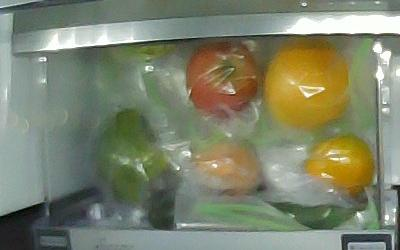apple_vinyl: (187, 41, 258, 117)
broccoli_vinyl: (93, 109, 171, 202)
cucumber_vinyl: (141, 201, 357, 230)
grapefruit_vinyl: (264, 38, 350, 131)
persimmon_vinyl: (304, 135, 374, 196)
